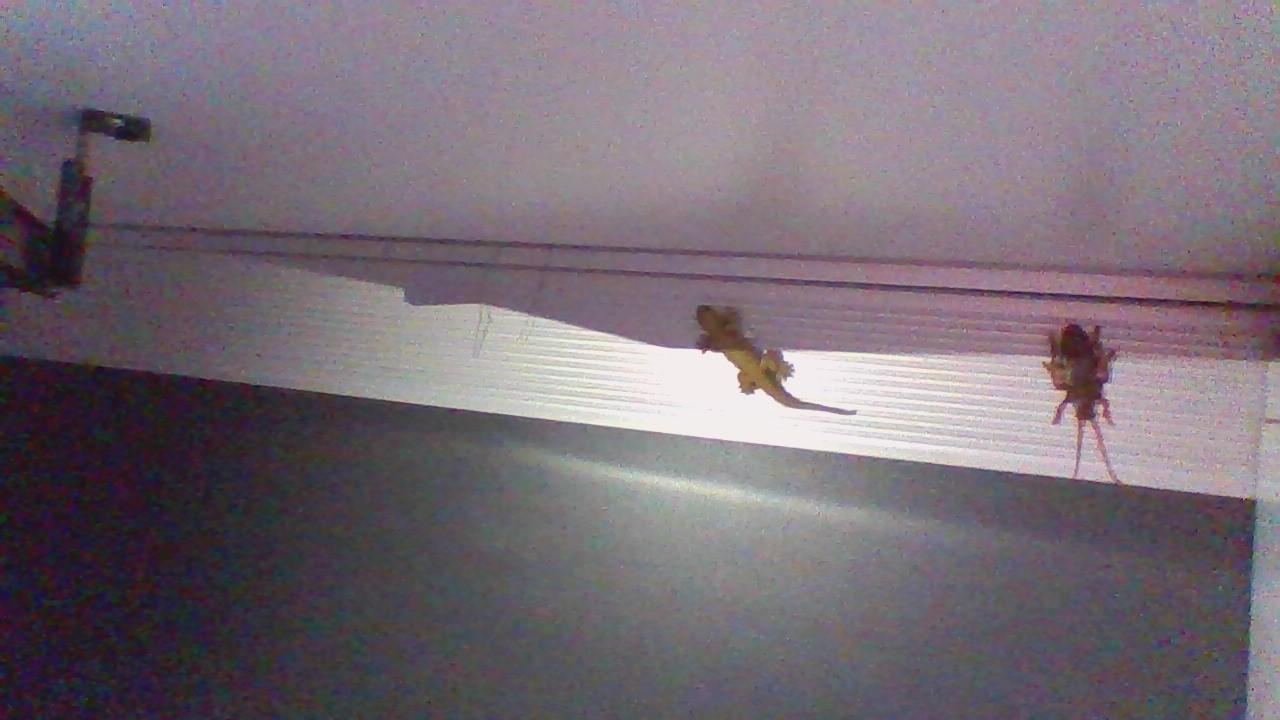cockroach: (1037, 296, 1125, 505)
lizard: (685, 277, 868, 437)
